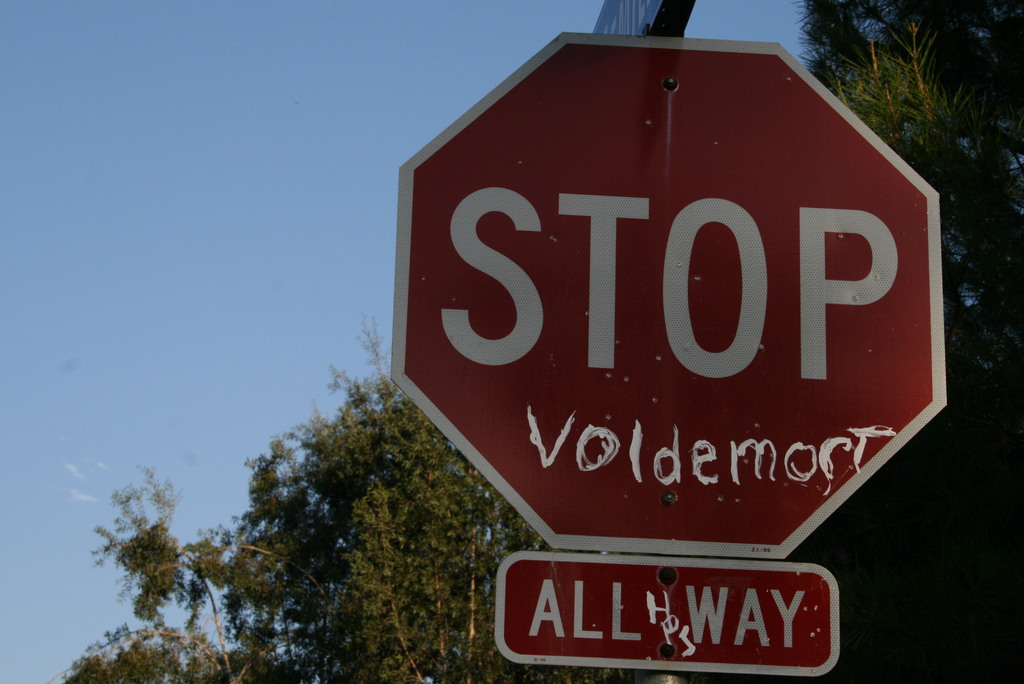stop_sign: (394, 36, 949, 557)
